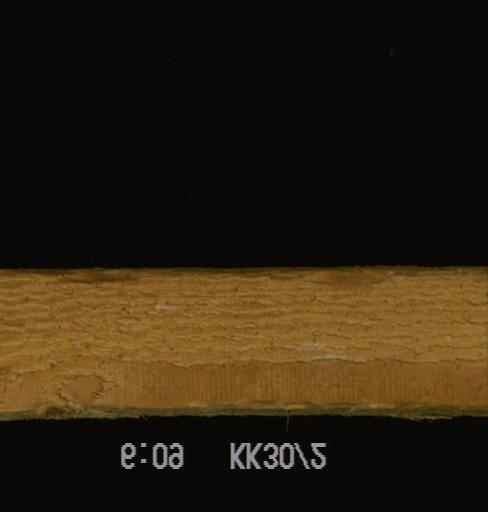edge_knot: (33, 402, 77, 418)
wave: (50, 266, 420, 281)
